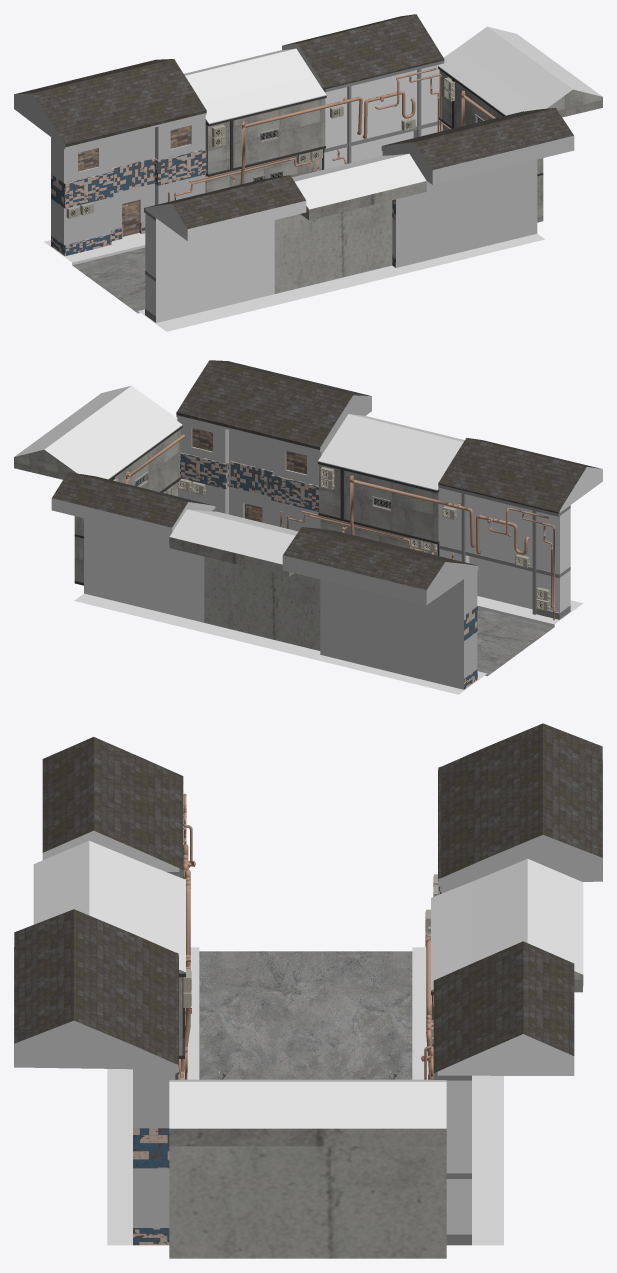
File: start_city.fbx
3 renders of one model, top to bottom at view 1: azimuth 30°, elevation 25°; view 2: azimuth 150°, elevation 25°; view 3: azimuth 270°, elevation 25°, orthographic. The views are drawn at different scales.
Visible parts, largest first — view 1: Bat3.003, Bat3.002, Bat2.002, Bat2.003, Bat1.003, Bat1.002, Bat1.004, start_path; view 2: Bat3.002, Bat3.003, Bat2.002, Bat1.002, Bat2.003, Bat1.003, Bat1.004, start_path; view 3: Bat1.004, start_path, Bat3.002, Bat3.003, Bat2.003, Bat2.002, Bat1.003, Bat1.002.
Boxes of the visible parts, x1=… form: Bat3.003: x1=14, y1=59, x2=207, y2=256; Bat3.002: x1=381, y1=107, x2=574, y2=267; Bat2.002: x1=144, y1=175, x2=306, y2=322; Bat2.003: x1=282, y1=14, x2=444, y2=169; Bat1.003: x1=184, y1=48, x2=327, y2=192; Bat1.002: x1=274, y1=153, x2=426, y2=293; Bat1.004: x1=438, y1=26, x2=602, y2=222; start_path: x1=44, y1=233, x2=544, y2=331; Bat3.002: x1=176, y1=360, x2=371, y2=531; Bat3.003: x1=282, y1=527, x2=478, y2=689; Bat2.002: x1=436, y1=438, x2=602, y2=620; Bat1.002: x1=318, y1=414, x2=464, y2=555; Bat2.003: x1=51, y1=472, x2=216, y2=622; Bat1.003: x1=169, y1=509, x2=320, y2=650; Bat1.004: x1=14, y1=385, x2=184, y2=585; start_path: x1=74, y1=593, x2=582, y2=694; Bat1.004: x1=169, y1=1079, x2=446, y2=1258; start_path: x1=107, y1=947, x2=503, y2=1245; Bat3.002: x1=14, y1=909, x2=180, y2=1245; Bat3.003: x1=433, y1=723, x2=602, y2=896; Bat2.003: x1=421, y1=941, x2=574, y2=1245; Bat2.002: x1=42, y1=737, x2=195, y2=1013; Bat1.003: x1=425, y1=859, x2=583, y2=1046; Bat1.002: x1=33, y1=840, x2=191, y2=1079.
Size of the model in its own units: 19458 by 5794 by 13513.
